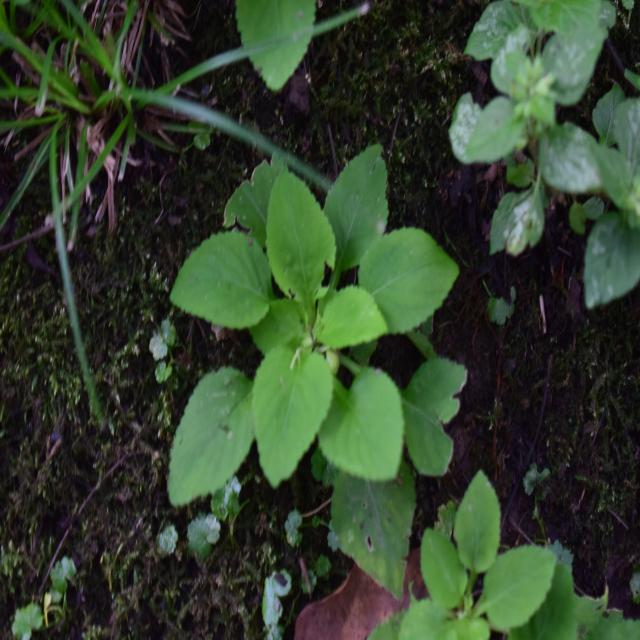Viola: (174, 157, 429, 532)
